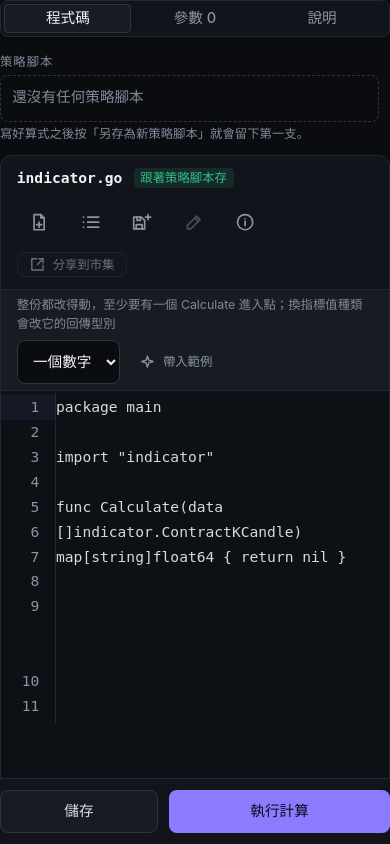
合約策略腳本的工作區 › 存下的那一支出現在這一頁的清單上
Clear the field with class "cm-content": x=109, y=407 [56,398,346,565]
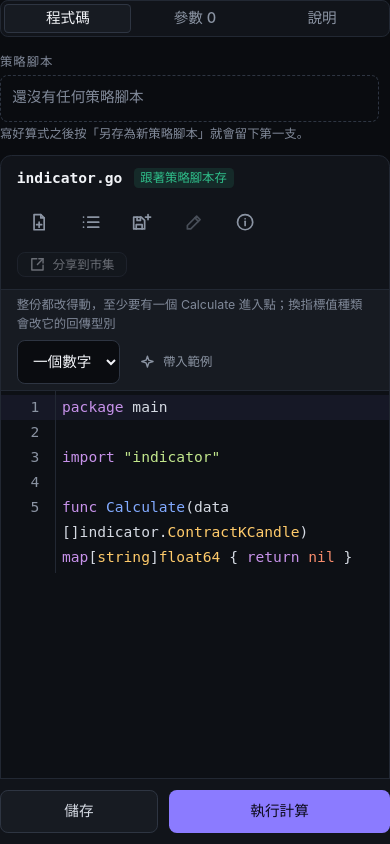
Click the button with test id "save-as-strategy-script-button": x=142, y=223 [120,200,165,245]
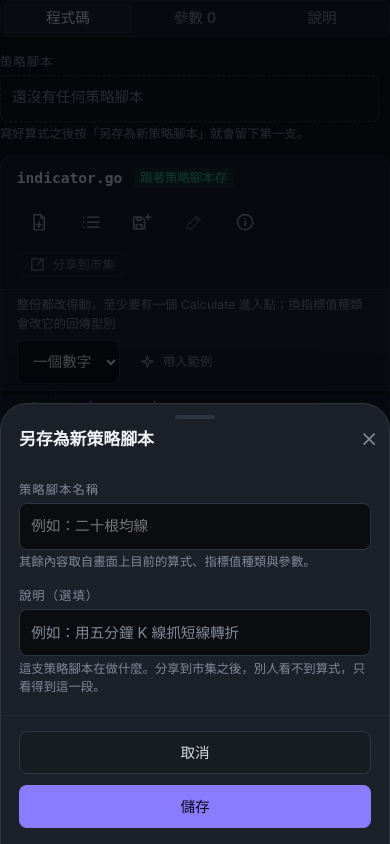
In the field with test id "strategy-script-name-input": x=195, y=526 [19,503,371,550], type "OI 背離"
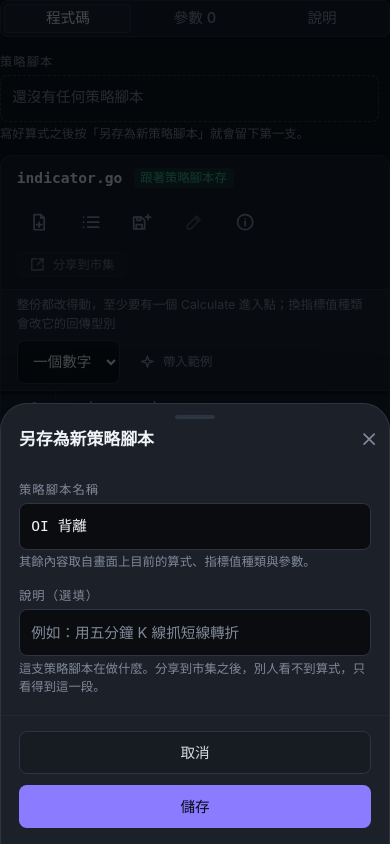
Click the button with test id "strategy-script-name-submit": x=195, y=807 [19,786,371,828]
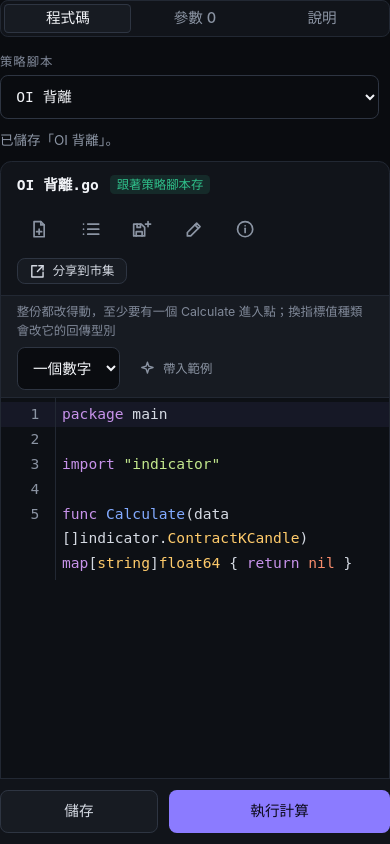
Now the dropdown with test id "strategy-script-picker-select" shows "OI 背離", box [0,75,379,119]
